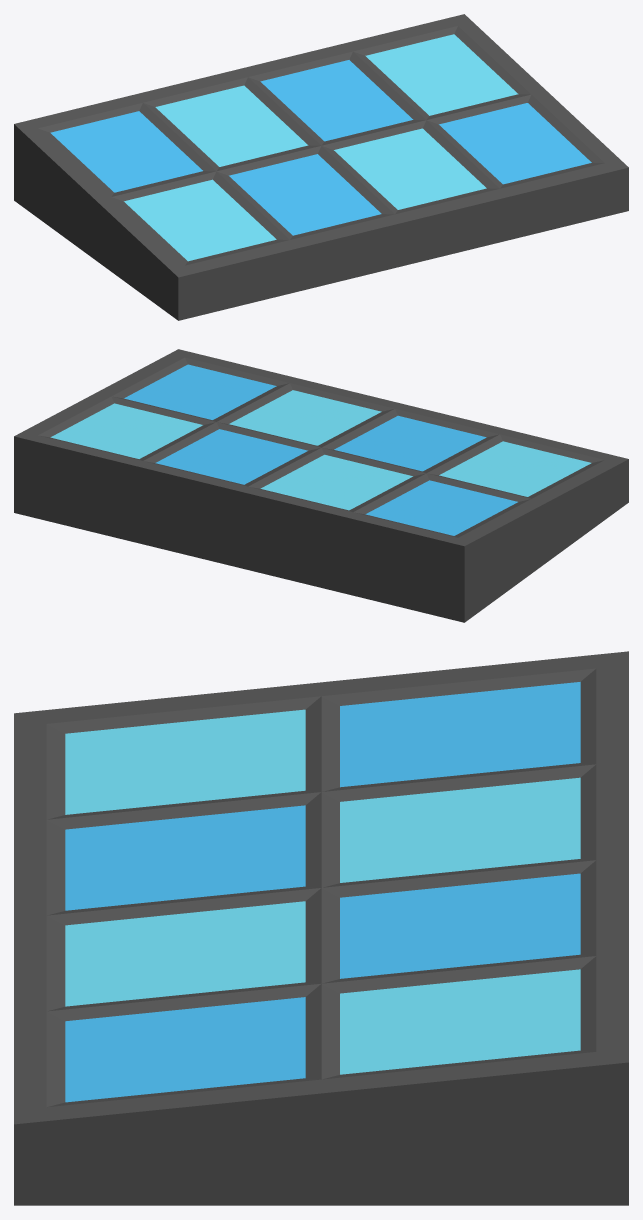
The model's file is Prop_RoofWindow_06.fbx.
3 views of the same model, one above another, from view 1: azimuth 30°, elevation 25°; view 2: azimuth 150°, elevation 25°; view 3: azimuth 270°, elevation 25° (orthographic). The views are drawn at different scales.
Parts seen in each view (by area): view 1: Prop_RoofWindow_06; view 2: Prop_RoofWindow_06; view 3: Prop_RoofWindow_06.
Boxes of the visible parts, bbox=[...] form: Prop_RoofWindow_06: bbox=[14, 14, 628, 320]; Prop_RoofWindow_06: bbox=[14, 349, 628, 622]; Prop_RoofWindow_06: bbox=[14, 651, 628, 1205].
Size of the model in its own units: 138 by 22.36 by 87.06.
